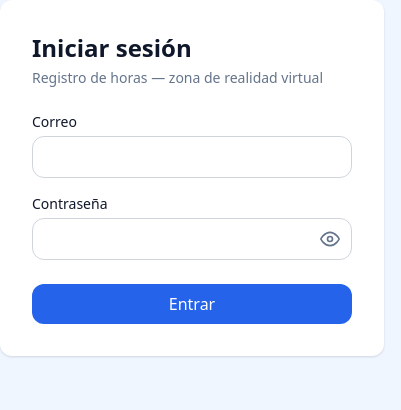
Test: LoginForm › muestra un error cuando las credenciales son inválidas
Type "becario@example.com" into the field labelled "Correo" at [192, 157], box [32, 136, 352, 178]
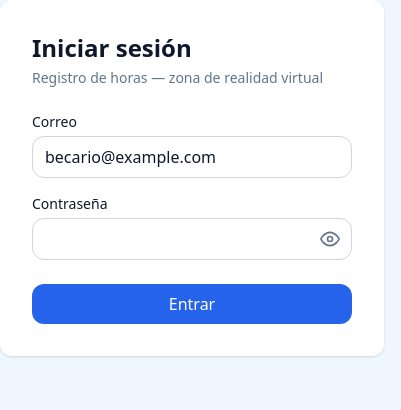
Type "contraseña-incorrecta" into the password field labelled "Contraseña" at [192, 239], box [32, 218, 352, 260]
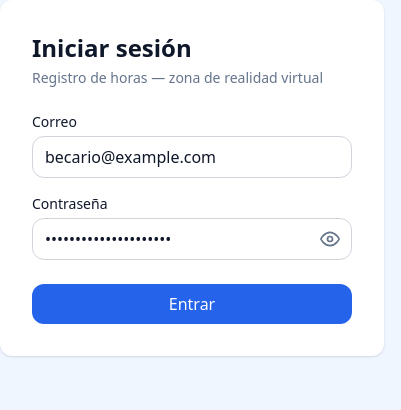
Click the button "Entrar" at [192, 304], box [32, 284, 352, 324]
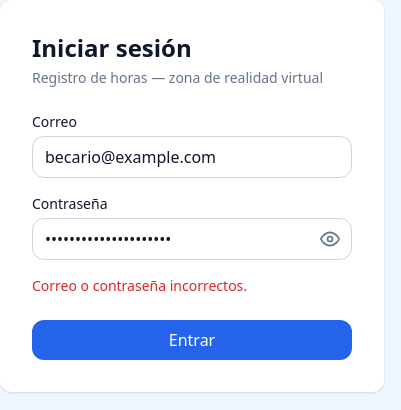
Now the message reads "Correo o contraseña incorrectos.", box [32, 276, 247, 295]
